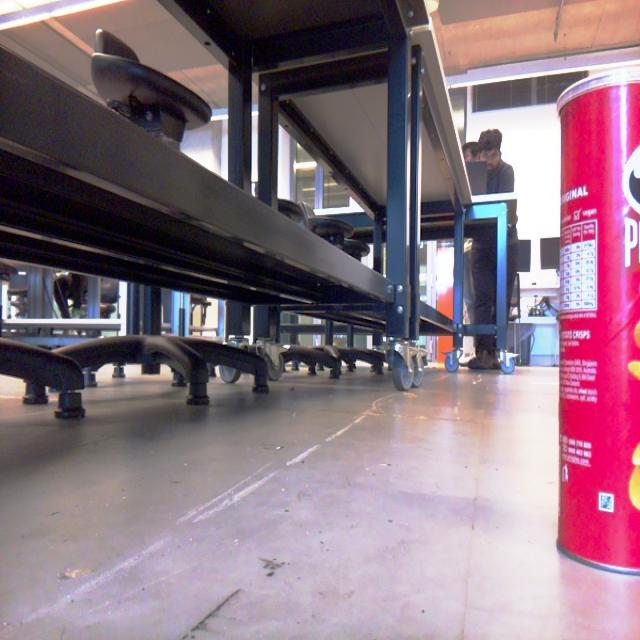redpringles: (548, 57, 640, 588)
